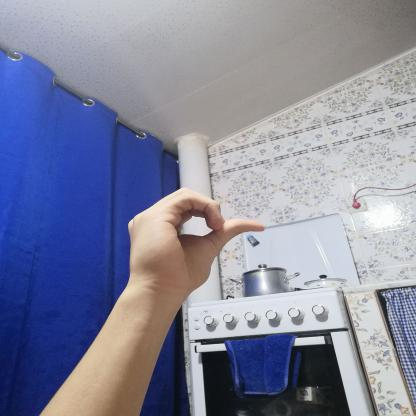WAW: (113, 177, 278, 304)
